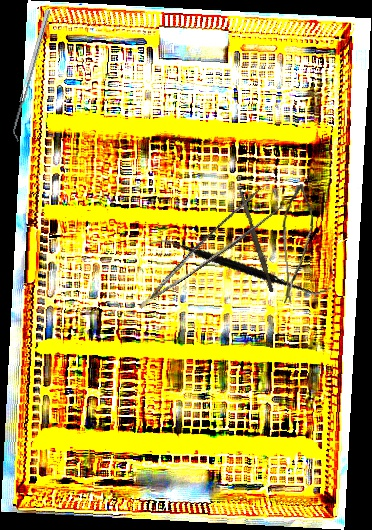Micro Scissor: (273, 183, 321, 305)
Pusher: (233, 184, 277, 293)
Spatula Surgical: (149, 200, 332, 332), (8, 9, 56, 142)
Tissue Forceps: (122, 182, 289, 309)
